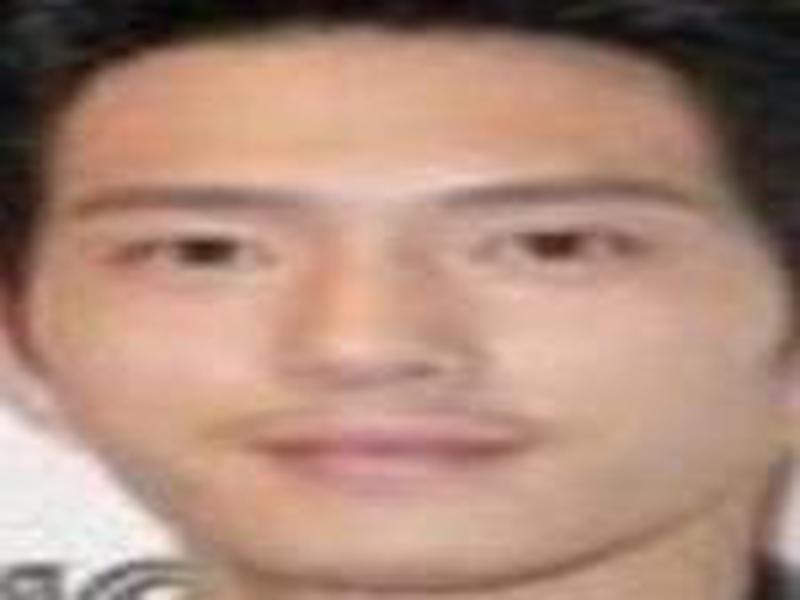without_mask: (36, 65, 748, 582)
